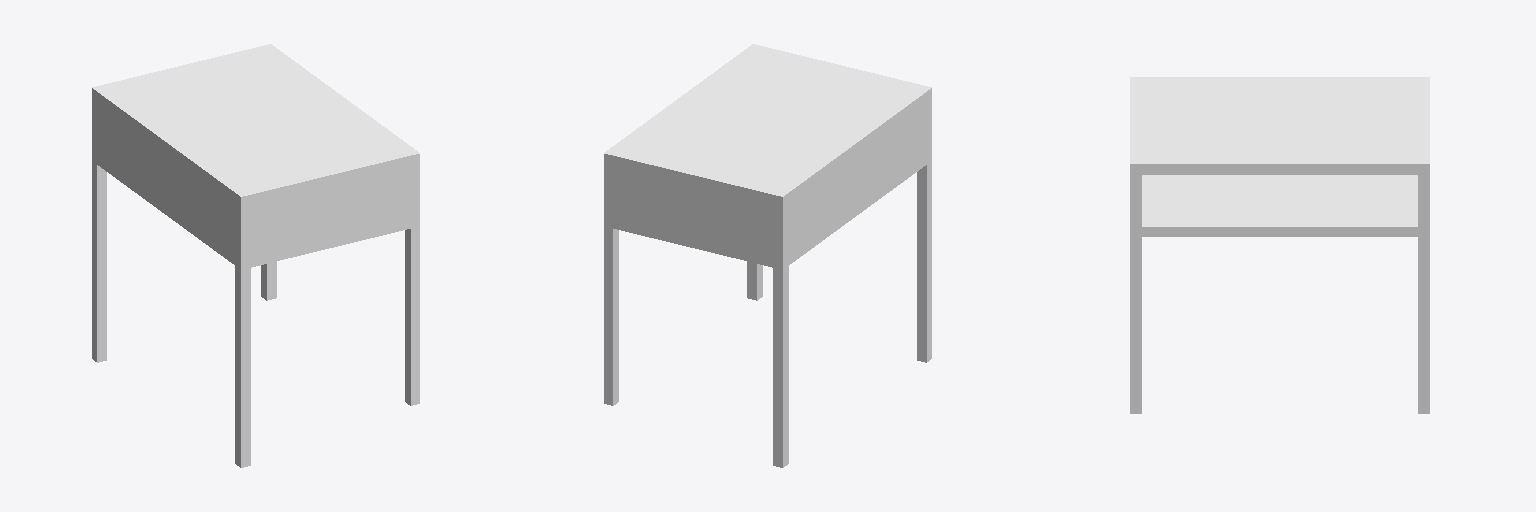
File: Mueble.obj
3 renders of one model, left to right at view 1: azimuth 30°, elevation 25°; view 2: azimuth 150°, elevation 25°; view 3: azimuth 270°, elevation 25°, orthographic.
Visible parts, largest first — view 1: object 1; view 2: object 1; view 3: object 1.
Boxes of the visible parts, x1=… form: object 1: x1=92, y1=44, x2=419, y2=467; object 1: x1=604, y1=44, x2=931, y2=467; object 1: x1=1130, y1=77, x2=1429, y2=413.
Size of the model in its own units: 1.8 by 2.6 by 2.6.